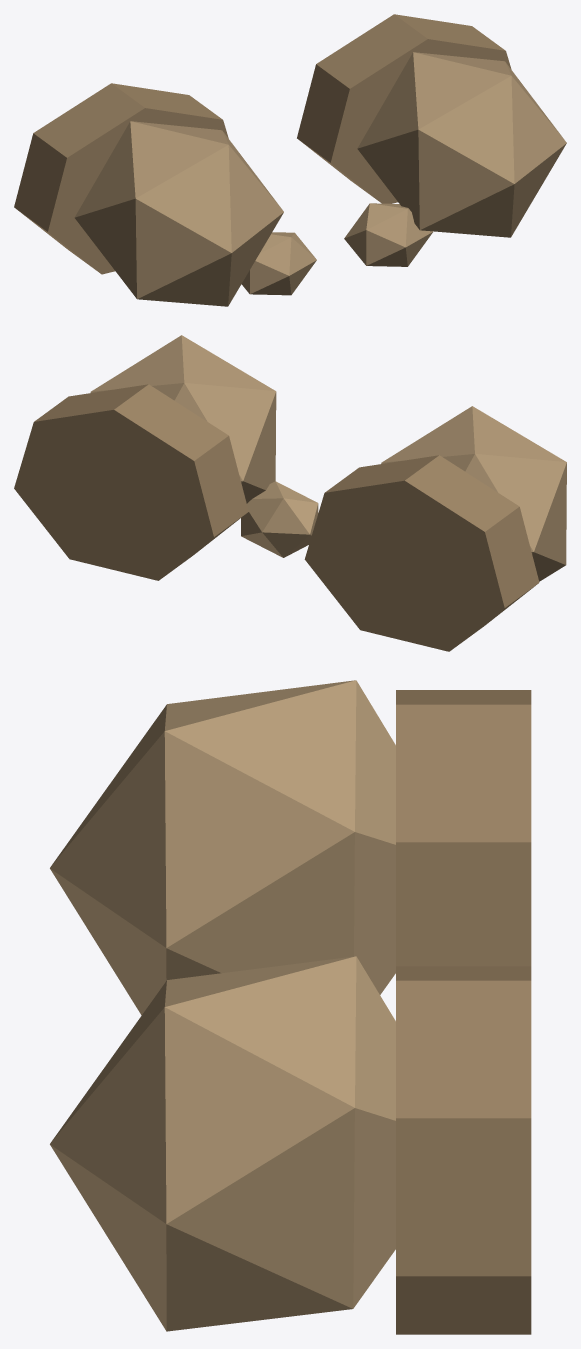
File: GlovesLeather.fbx
3 views of the same model, one above another, from view 1: azimuth 30°, elevation 25°; view 2: azimuth 150°, elevation 25°; view 3: azimuth 270°, elevation 25° (orthographic). The views are drawn at different scales.
Visible parts, largest first — view 1: fam_leather, fam_leather_dark; view 2: fam_leather_dark, fam_leather; view 3: fam_leather, fam_leather_dark.
Boxes of the visible parts, box(x1,y1,x2,y2) form: fam_leather: box(74, 52, 566, 306); fam_leather_dark: box(14, 14, 511, 274); fam_leather_dark: box(14, 384, 539, 651); fam_leather: box(90, 335, 566, 581); fam_leather: box(50, 680, 395, 1331); fam_leather_dark: box(396, 690, 531, 1334).
Size of the model in its own units: 18.26 by 6.32 by 7.98.
